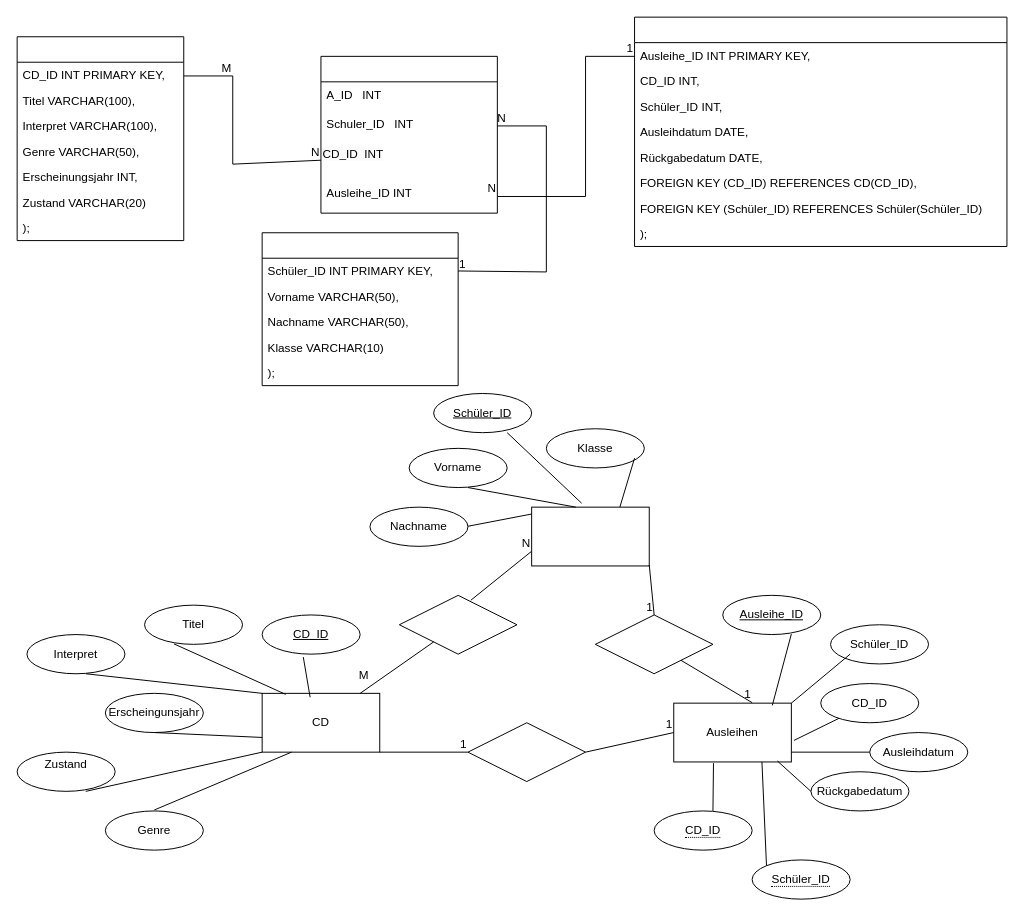
Some shapes in this 1024 by 916 pixel diagram are drawn without their labels. Each missing label, with the box of its shape:
beinhaltet: (467, 722, 586, 782)
Schüler: (531, 506, 649, 566)
TABLE Ausleihe (: (634, 16, 1007, 246)
TABLE CD (: (16, 36, 184, 241)
TABLE Schüler (: (261, 232, 458, 386)
Wird Ausgeliehen: (320, 55, 497, 213)
wird ausgeliehen an: (398, 594, 517, 654)
Wurde von: (594, 614, 713, 674)
